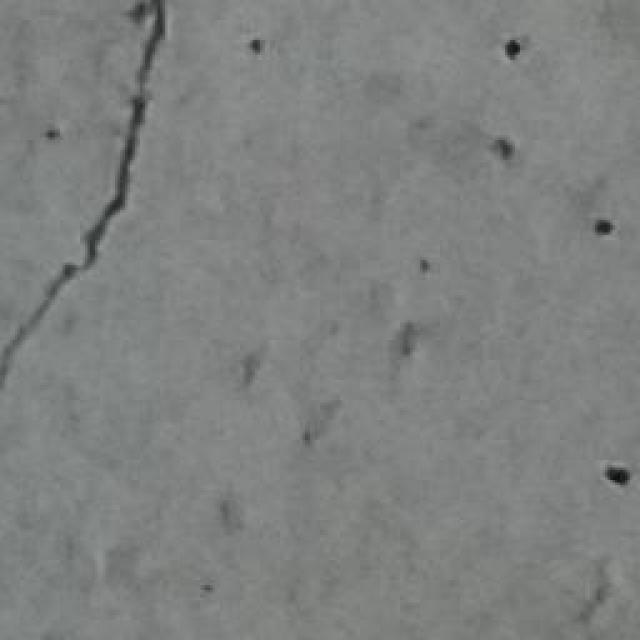Diagonal: (0, 0, 170, 410)
